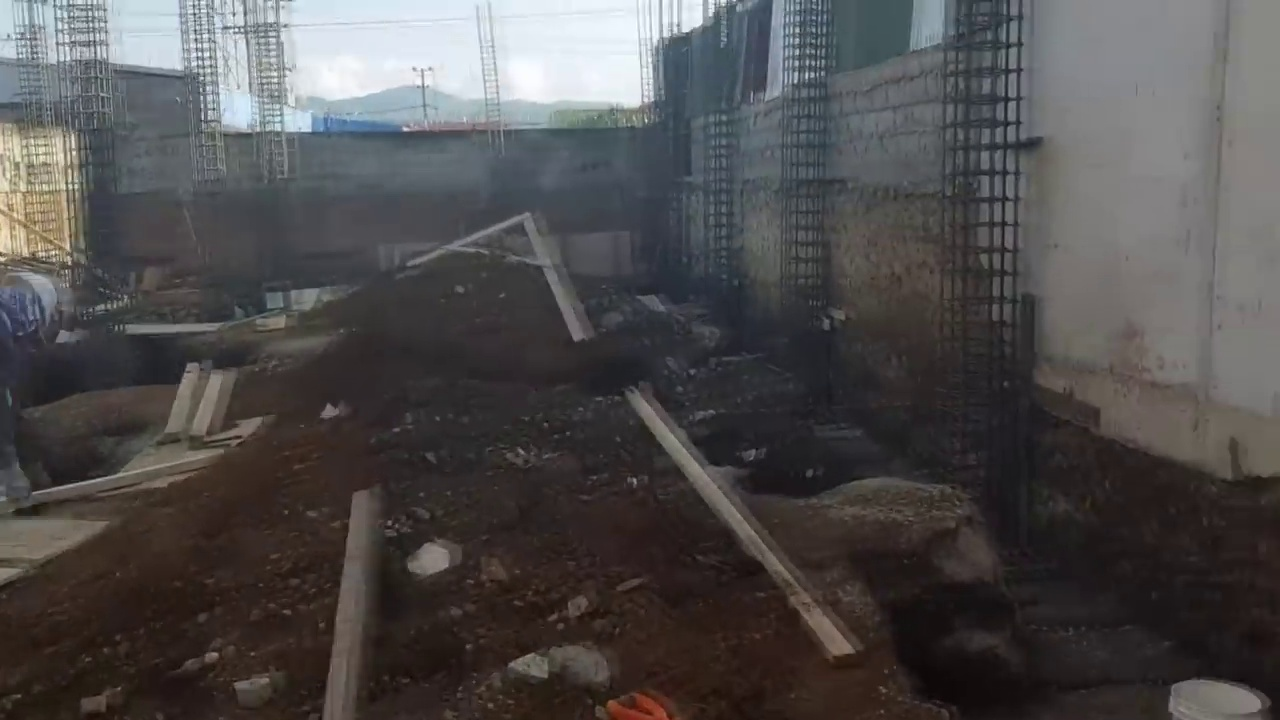helmet: (0, 270, 55, 332)
